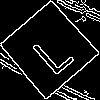L: (24, 24, 76, 78)
